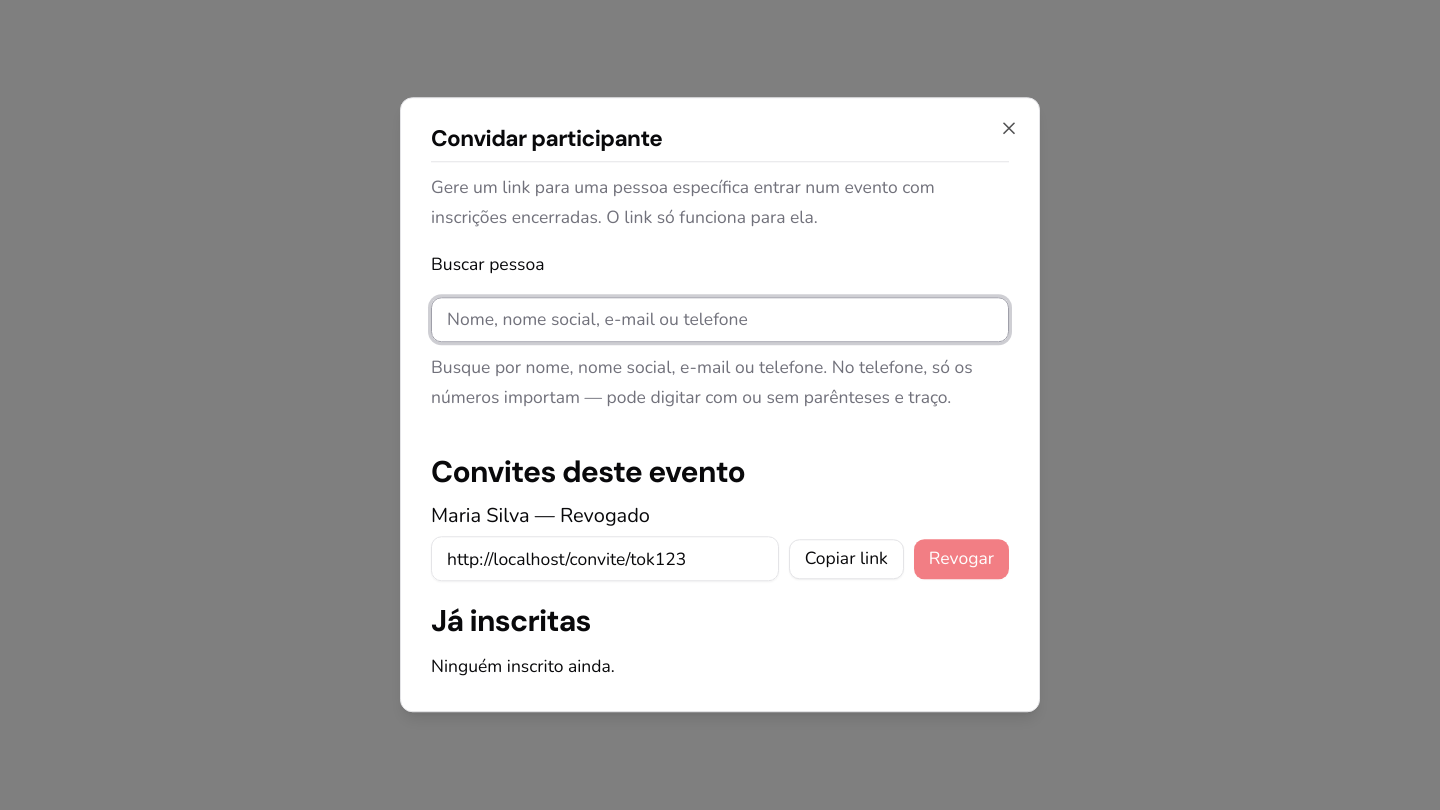
Test: the invite modal › still offers the invite to somebody whose invite was revoked
In the field labelled "Buscar pessoa": (720, 319) [431,297,1009,342], type "maria"
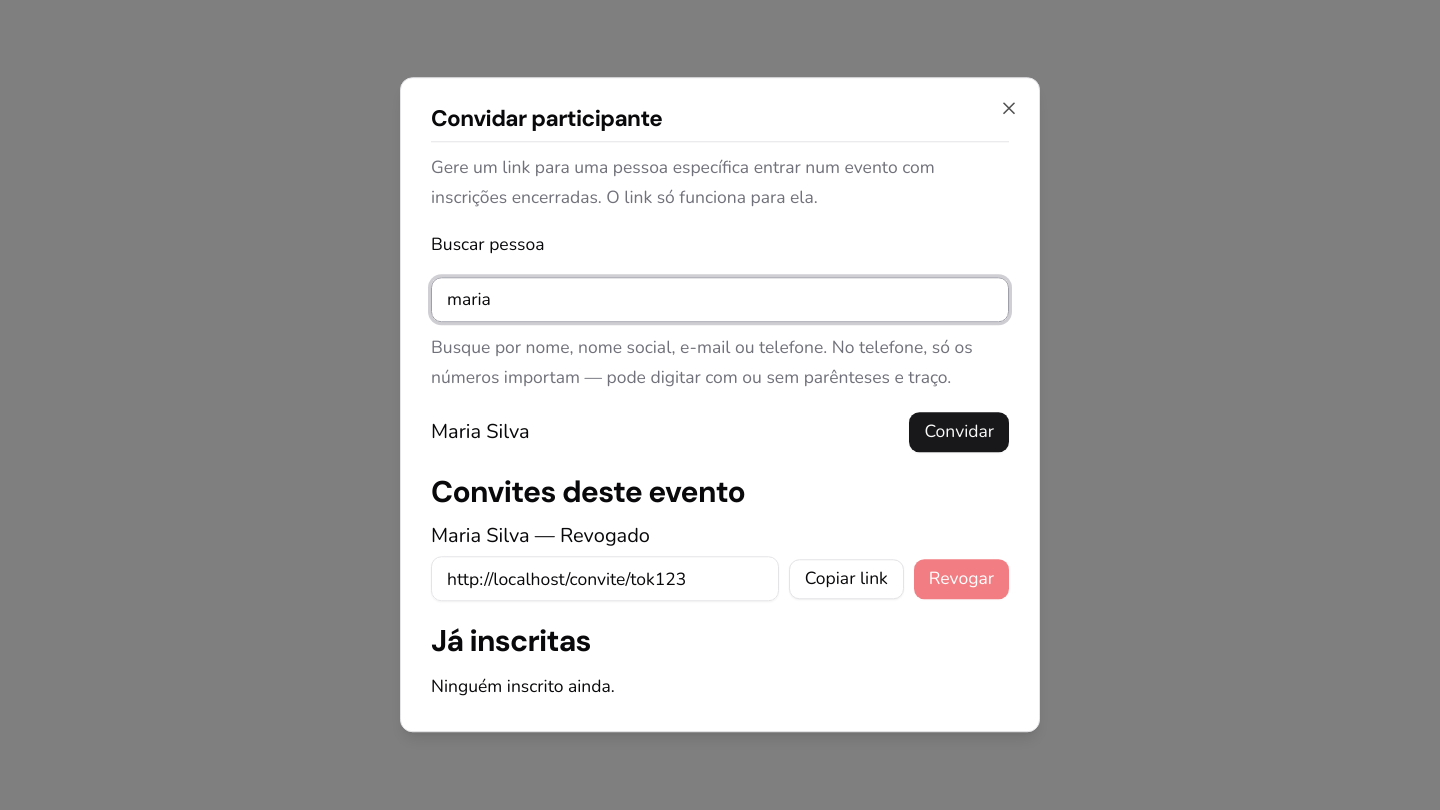
Now the button "Convidar" is enabled, box [909,412,1009,452]
